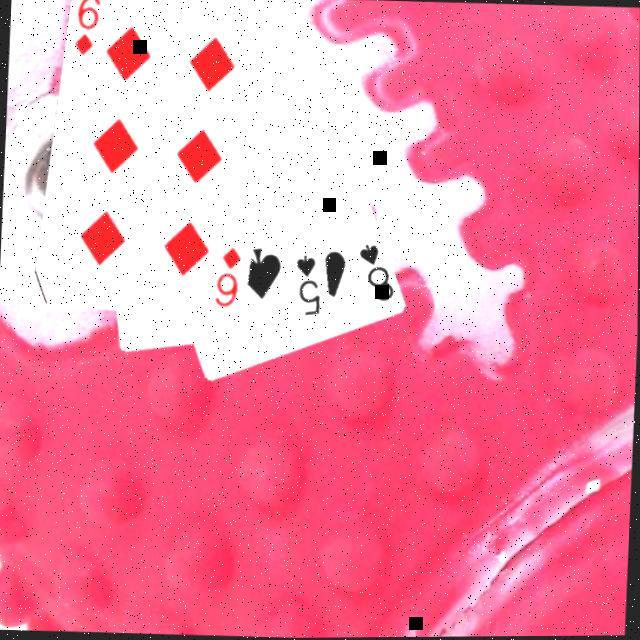5S: (290, 252, 324, 320)
6D: (211, 245, 243, 312), (70, 0, 103, 60)
8S: (354, 242, 399, 306)
